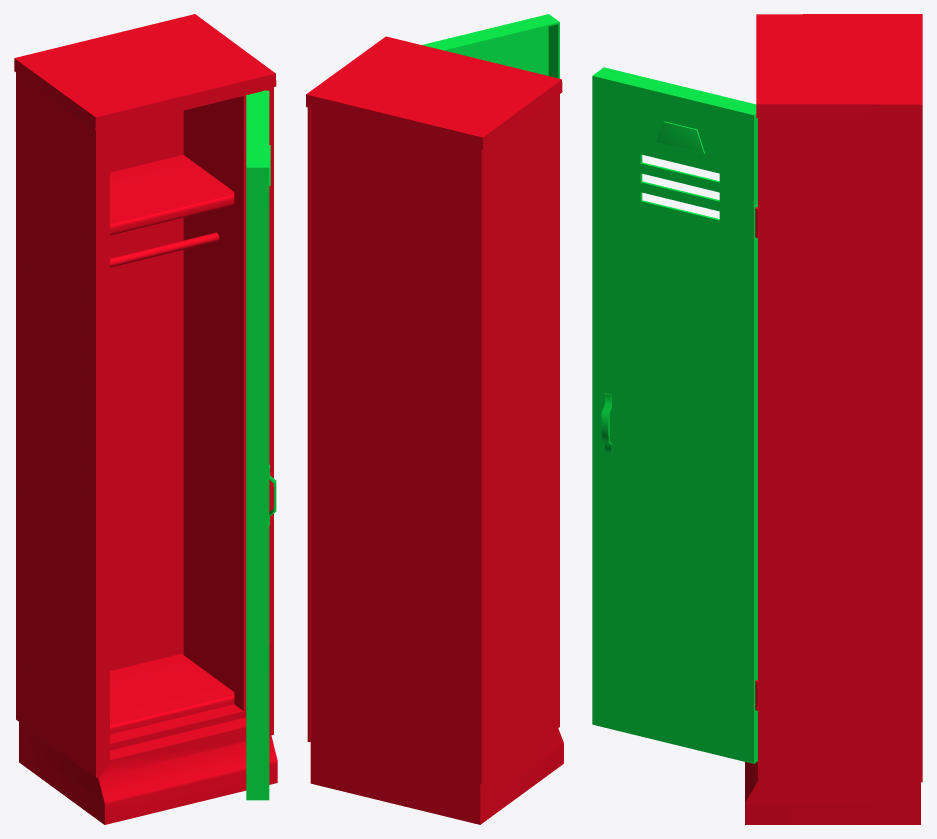
The model's file is OpenLocker.FBX.
3 views of the same model, side by side, from view 1: azimuth 30°, elevation 25°; view 2: azimuth 150°, elevation 25°; view 3: azimuth 270°, elevation 25° (orthographic). The views are drawn at different scales.
Parts seen in each view (by area): view 1: lockerBody001, LockerDoor001; view 2: lockerBody001, LockerDoor001; view 3: lockerBody001, LockerDoor001.
Part boxes in pixels (<box>): lockerBody001: <box>14,14,277,824</box>; LockerDoor001: <box>246,90,276,800</box>; lockerBody001: <box>306,36,563,824</box>; LockerDoor001: <box>422,14,559,78</box>; lockerBody001: <box>745,14,922,824</box>; LockerDoor001: <box>592,67,757,763</box>.
Size of the model in its own units: 45.8 by 170 by 70.63.
